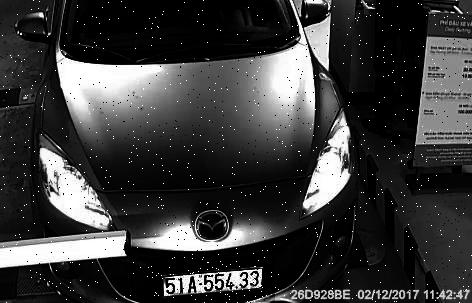License-plate: (147, 258, 276, 303)
